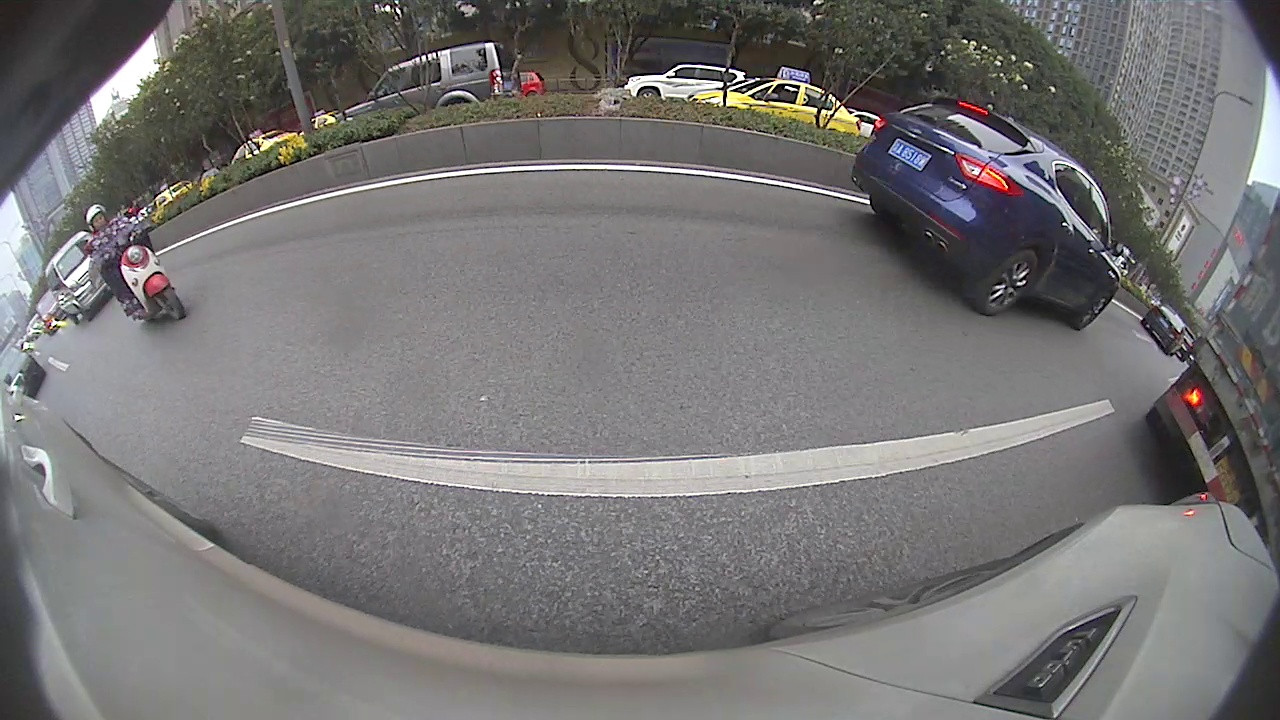car: (849, 93, 1119, 331), (42, 229, 116, 323), (1142, 307, 1182, 355)
front: (148, 277, 185, 319), (1077, 288, 1111, 328), (638, 85, 661, 107)
rear: (975, 252, 1039, 316)
rider: (76, 203, 191, 325)
